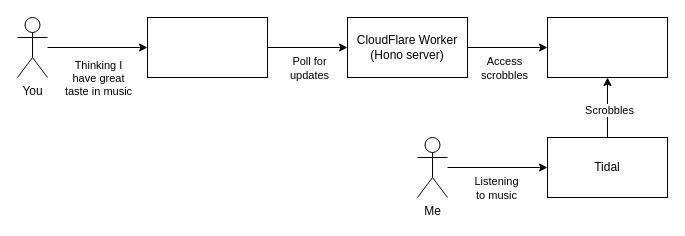
Some shapes in this 685 by 236 pixel diagram are drawn without their labels. The centre of each missing label's shape, as x and y in pixels:
"Frontend (Scrobble widget)" belongs at [207,47].
"Last.fm (Data source)" belongs at [607,47].
